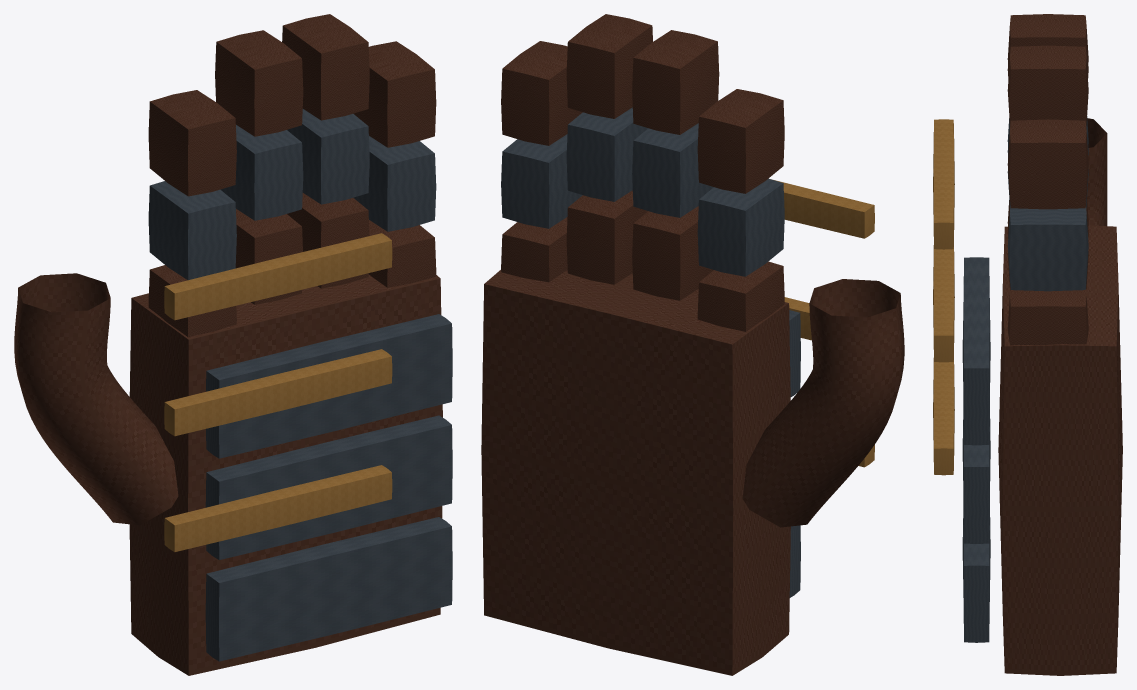
The picture shows the model from 3 angles, left to right: view 1: azimuth 30°, elevation 25°; view 2: azimuth 150°, elevation 25°; view 3: azimuth 270°, elevation 25°; orthographic projection. The views are drawn at different scales.
Parts seen in each view (by area): view 1: leather.0, leather.13, iron.14, iron.15, iron.16, brass.19, brass.18, brass.17, leather.3, leather.6, iron.2, leather.9 (+8 smaller); view 2: leather.0, leather.13, leather.3, leather.6, iron.2, leather.9, leather.12, leather.7, iron.8, iron.11, leather.4, iron.5 (+5 smaller); view 3: leather.0, leather.12, iron.11, leather.9, iron.16, leather.10, iron.14, iron.15, brass.19, leather.6, brass.18, brass.17 (+1 smaller).
Boxes of the visible parts, x1,y1,x2,y2 form: leather.0: (129, 274, 442, 675); leather.13: (14, 273, 178, 525); iron.14: (205, 517, 452, 661); iron.15: (205, 415, 452, 559); iron.16: (206, 314, 452, 458); brass.19: (164, 233, 392, 320); brass.18: (164, 349, 392, 436); brass.17: (164, 465, 392, 551); leather.3: (148, 90, 236, 196); leather.6: (215, 30, 303, 136); iron.2: (148, 181, 236, 280); leather.9: (282, 14, 369, 120); leather.0: (481, 270, 790, 675); leather.13: (742, 279, 904, 527); leather.3: (697, 89, 784, 193); leather.6: (632, 30, 719, 134); iron.2: (697, 178, 784, 276); leather.9: (566, 14, 652, 118); leather.12: (501, 41, 582, 145); leather.7: (566, 190, 647, 284); iron.8: (566, 107, 648, 201); iron.11: (501, 134, 582, 228); leather.4: (632, 206, 713, 300); iron.5: (632, 123, 713, 217); leather.0: (998, 225, 1122, 675); leather.12: (1007, 119, 1088, 209); iron.11: (1007, 206, 1088, 291); leather.9: (1007, 45, 1088, 126); iron.16: (962, 257, 990, 445); leather.10: (1007, 287, 1088, 345); iron.14: (962, 499, 990, 642); iron.15: (962, 401, 990, 543); brass.19: (933, 119, 954, 249); leather.6: (1007, 14, 1088, 72); brass.18: (933, 245, 954, 362); brass.17: (933, 358, 954, 475).
Bounding box in the file's own units: 0.1439 × 0.2055 × 0.061.
3 materials, 3 textured.
